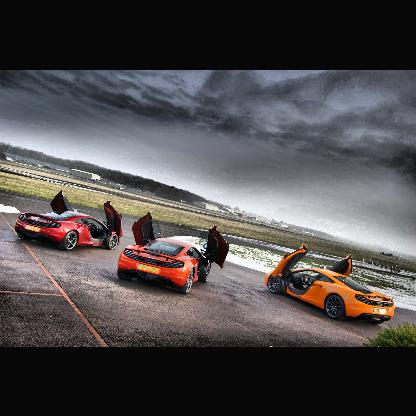McLaren MP4-12C Coupe 2012: (265, 242, 397, 326)
